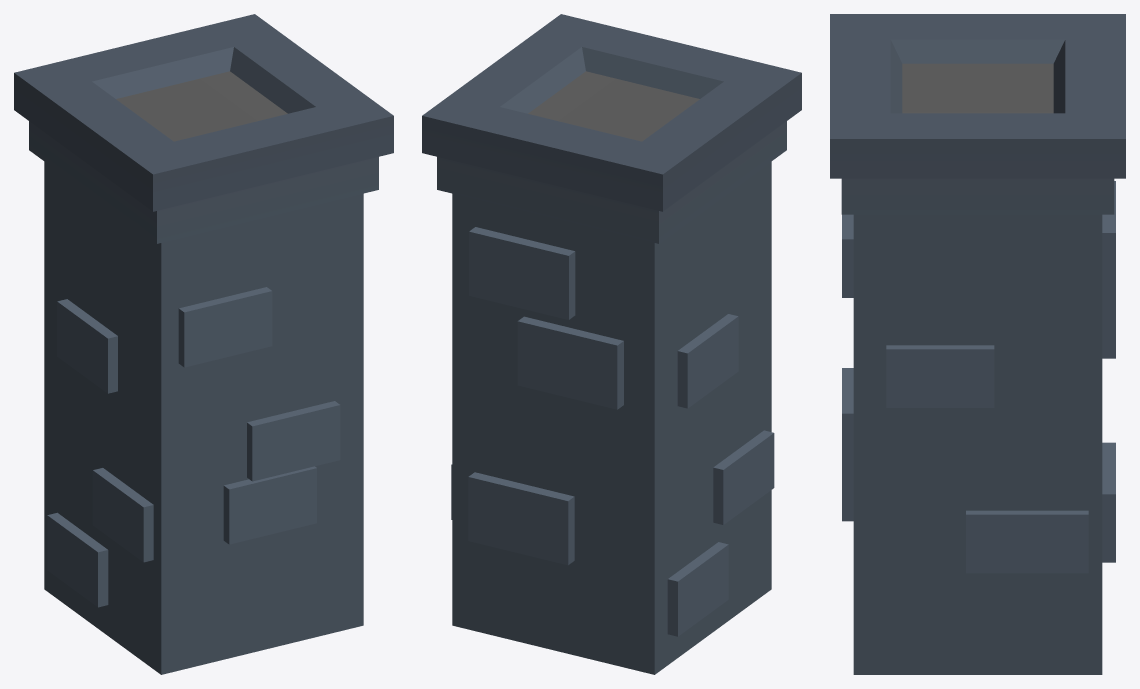
The model's file is Chimney_4_D_1.fbx.
3 views of the same model, side by side, from view 1: azimuth 30°, elevation 25°; view 2: azimuth 150°, elevation 25°; view 3: azimuth 270°, elevation 25° (orthographic). The views are drawn at different scales.
Visible parts, largest first — view 1: Chimney_4_D_1; view 2: Chimney_4_D_1; view 3: Chimney_4_D_1.
Part boxes in pixels (x1,y1,x2,y2): Chimney_4_D_1: (14,14,393,674); Chimney_4_D_1: (422,14,801,674); Chimney_4_D_1: (830,14,1125,674).
Size of the model in its own units: 82.7 by 168 by 82.7.
